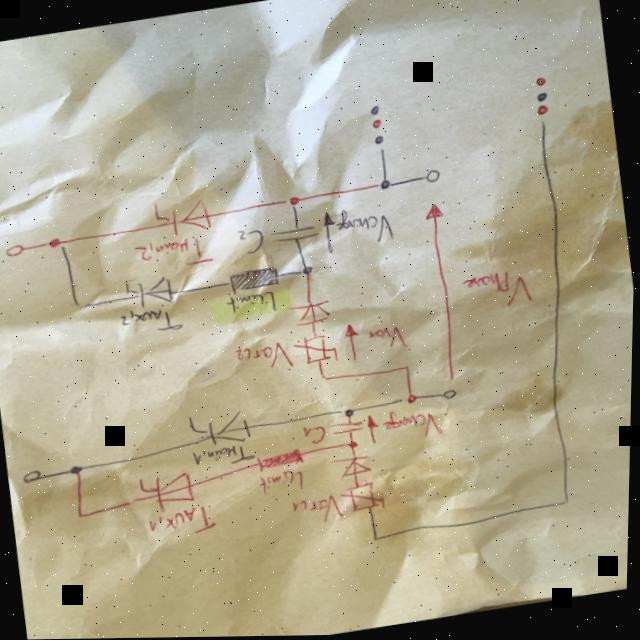capacitor: (269, 225, 324, 247), (330, 420, 369, 440)
diode: (287, 299, 337, 330), (332, 455, 377, 484)
inductor: (226, 265, 285, 298), (258, 449, 309, 474)
junction: (48, 237, 69, 252), (401, 395, 424, 408), (285, 195, 304, 210), (377, 179, 396, 193), (71, 464, 90, 477), (340, 408, 358, 421), (74, 299, 91, 312), (300, 266, 317, 278), (348, 441, 363, 451), (76, 512, 90, 522), (321, 376, 334, 385), (564, 501, 575, 510), (404, 364, 414, 373), (373, 537, 384, 544)
terminal: (534, 105, 556, 131), (4, 243, 29, 261), (24, 469, 47, 487), (423, 170, 444, 187), (374, 135, 390, 156), (443, 391, 462, 403)
text: (135, 234, 218, 276), (462, 269, 537, 315), (336, 202, 398, 251), (149, 505, 222, 543), (382, 405, 448, 446), (120, 303, 187, 341), (235, 341, 298, 378), (193, 443, 259, 473), (293, 494, 349, 529), (227, 291, 282, 321), (259, 469, 309, 499), (369, 326, 412, 356), (237, 227, 269, 259), (304, 425, 333, 448)
thyristor: (154, 196, 217, 241), (191, 410, 256, 453), (140, 472, 201, 516), (124, 275, 179, 313)
